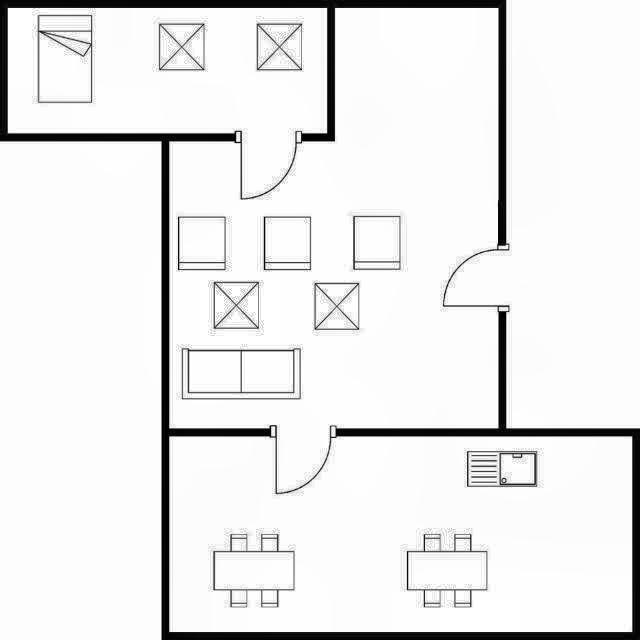room: (169, 8, 499, 428), (169, 436, 632, 632), (8, 8, 327, 133)
